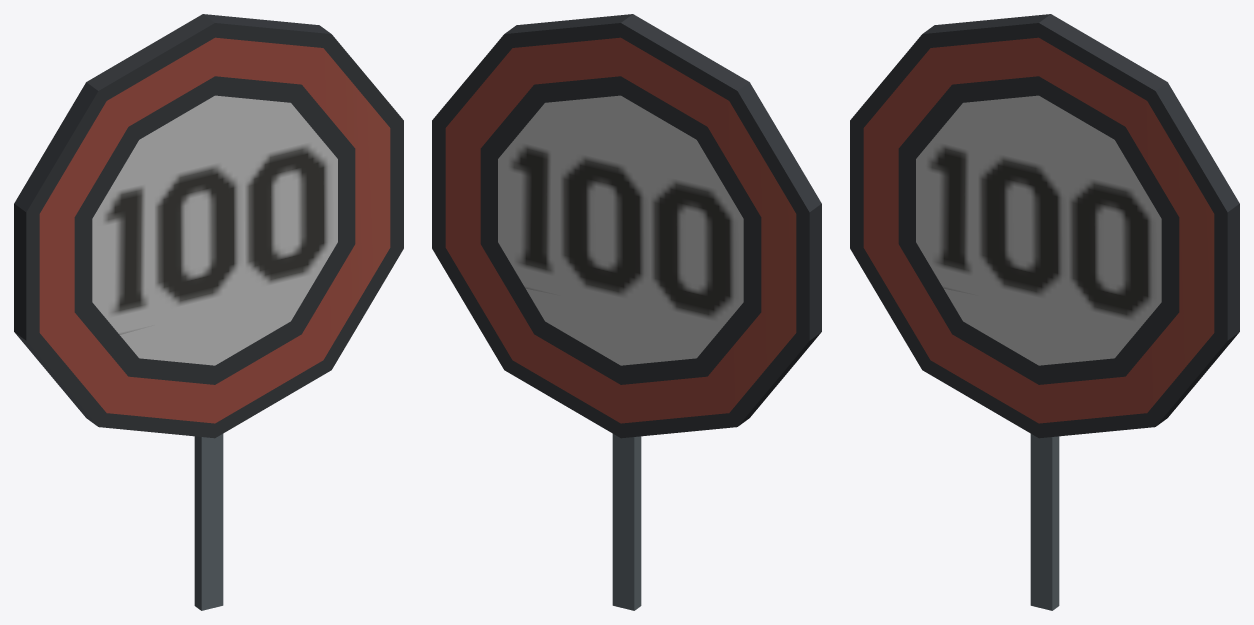
The model's file is SM_Prop_Sign_Distance_02.fbx.
The picture shows the model from 3 angles, left to right: view 1: azimuth 30°, elevation 25°; view 2: azimuth 150°, elevation 25°; view 3: azimuth 330°, elevation 25°; orthographic projection.
Parts seen in each view (by area): view 1: SM_Prop_Sign_Distance_02; view 2: SM_Prop_Sign_Distance_02; view 3: SM_Prop_Sign_Distance_02.
Part boxes in pixels (left/top/right/bottom): SM_Prop_Sign_Distance_02: left=14, top=14, right=403, bottom=610; SM_Prop_Sign_Distance_02: left=432, top=14, right=821, bottom=610; SM_Prop_Sign_Distance_02: left=850, top=14, right=1239, bottom=610.
Size of the model in its own units: 110 by 163 by 6.16.
